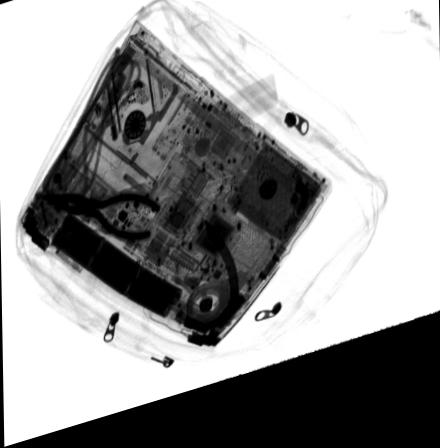Pliers: (41, 196, 160, 249)
